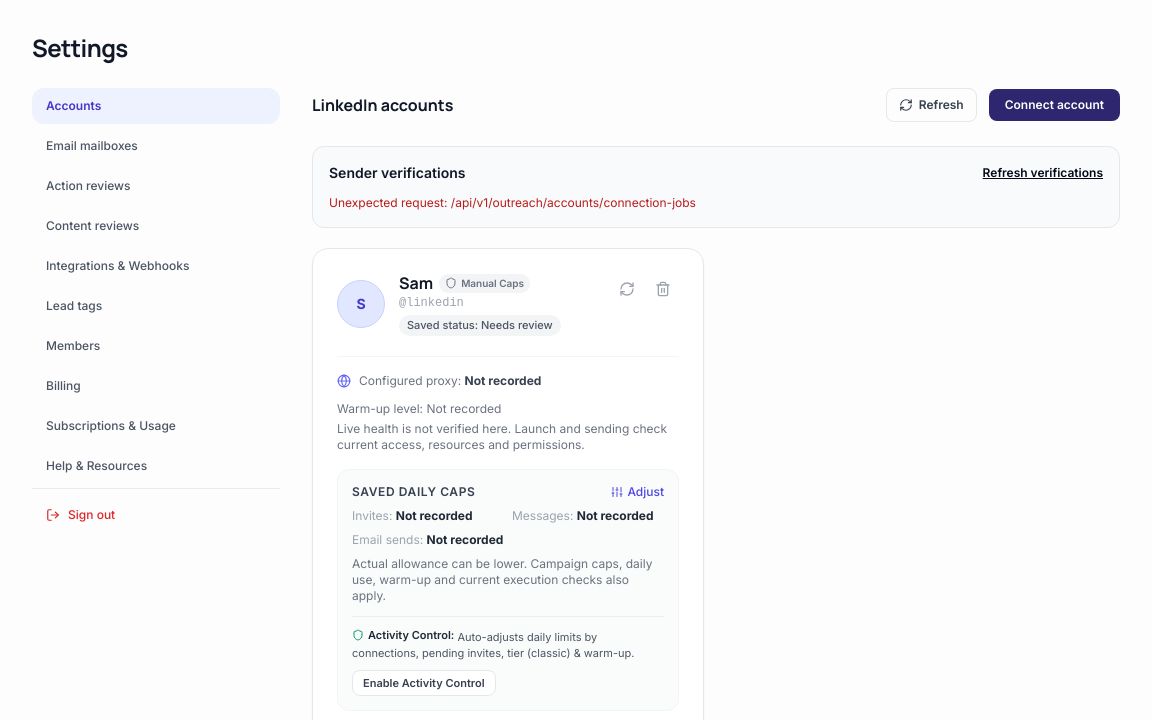
Test: OutreachSettings page › opens the sender mailbox settings from its own navigation tab
Click the button "Email mailboxes".
click(156, 146)  # box [32,128,280,164]
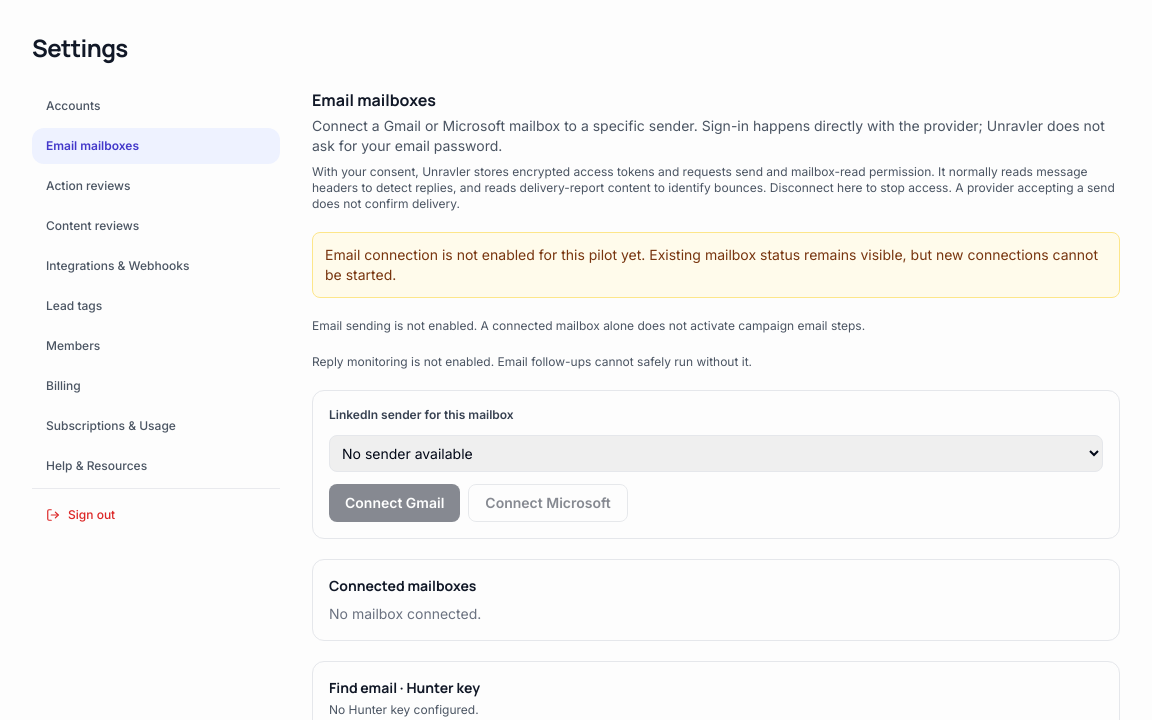
Expected: the text "Connect a Gmail or Microsoft mailbox" is shown, [312,117,1105,154]
